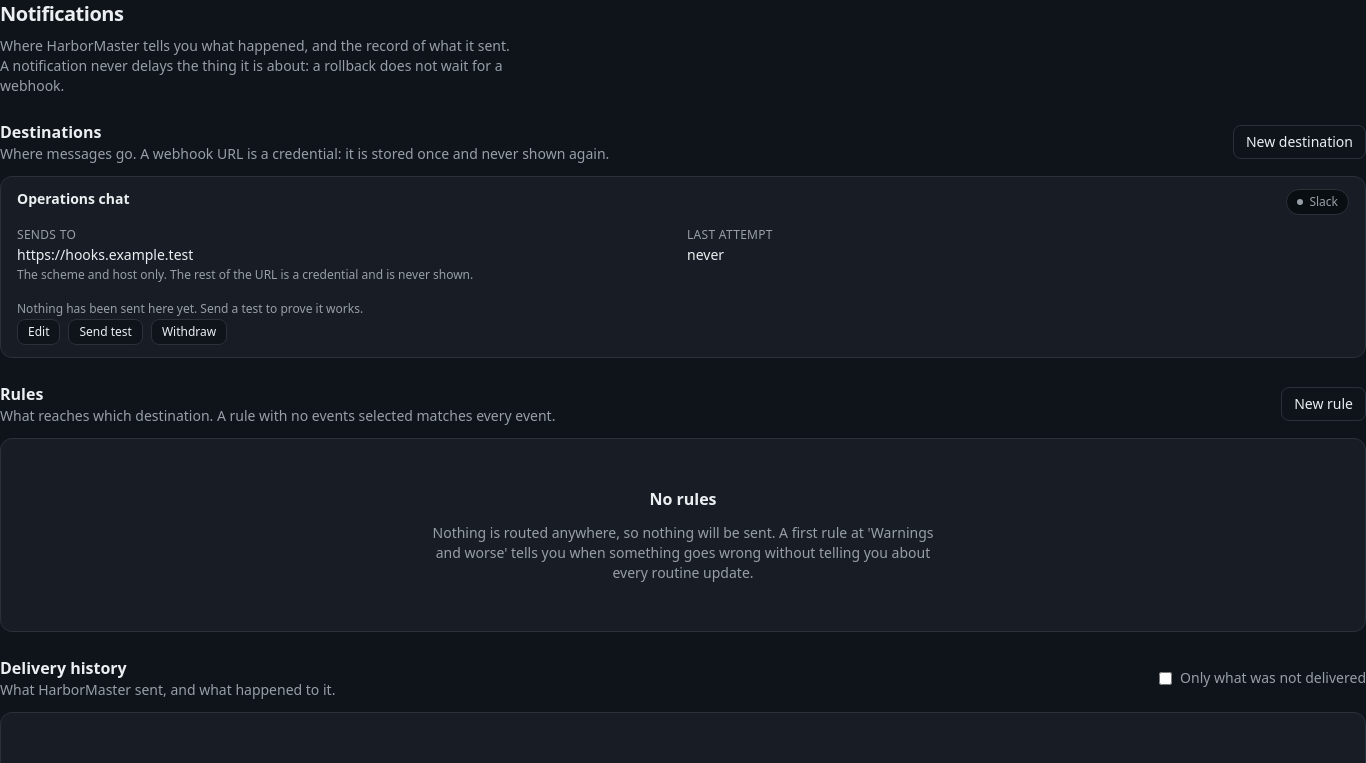
sends a test that carries no target
Check: the heading "Operations chat" is shown, box [17, 189, 130, 209]
Click the button "Send test" at (106, 332), box [68, 319, 143, 345]
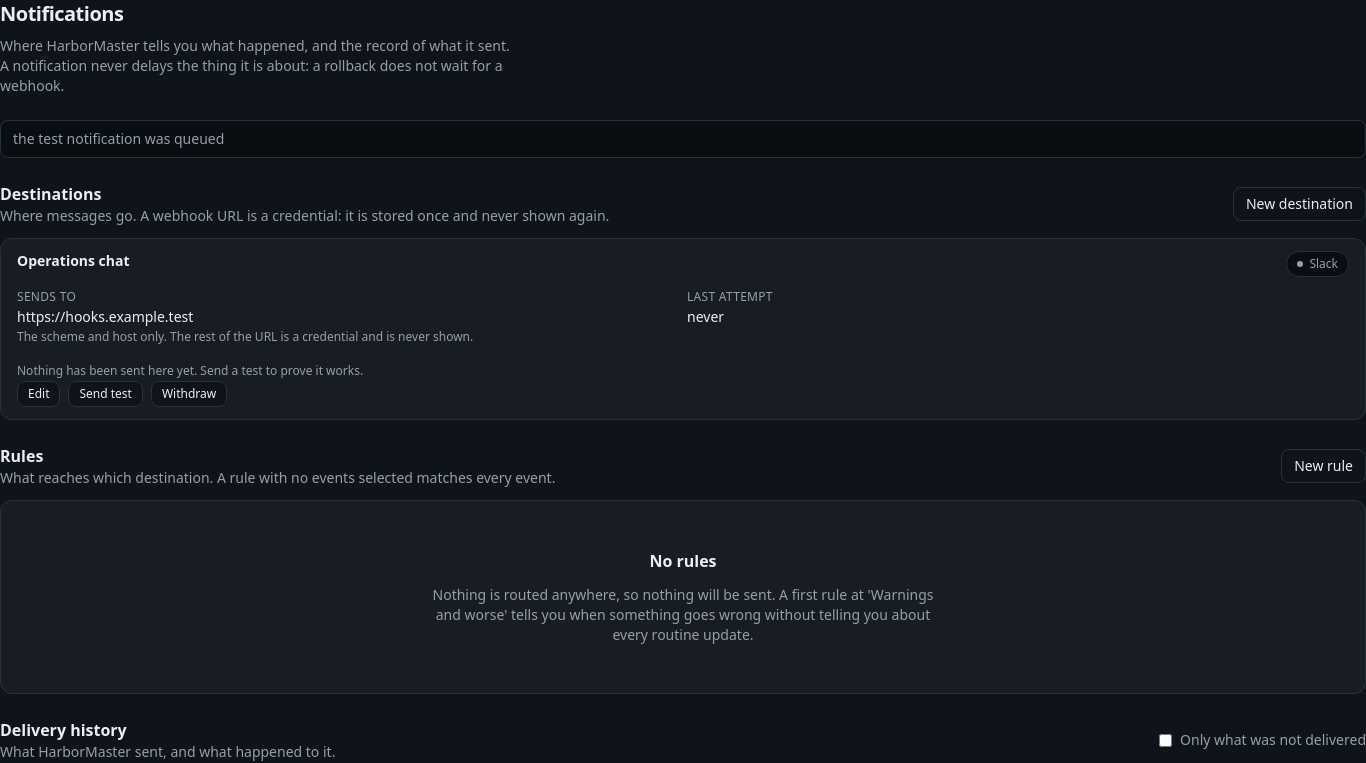
Check: the text "the test notification was queued" is shown, box [0, 120, 1365, 158]
